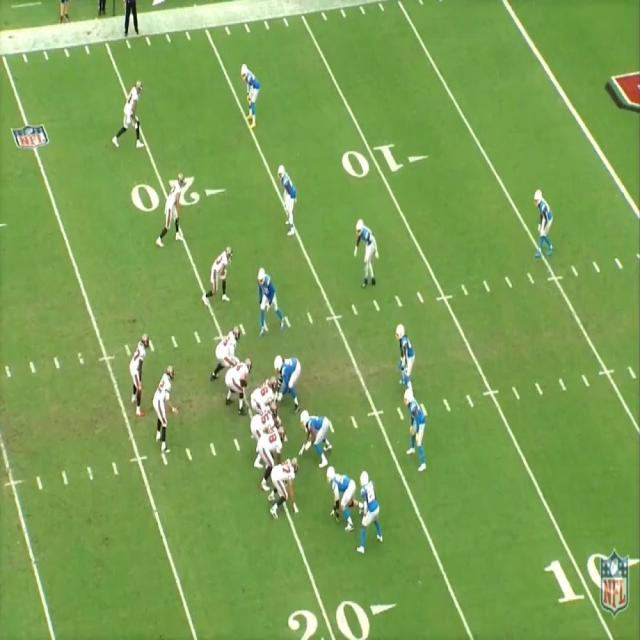center: (250, 372, 281, 406)
db: (238, 60, 264, 129), (532, 190, 552, 260), (279, 164, 297, 240)
lb: (398, 388, 434, 472), (354, 216, 381, 290), (394, 319, 416, 377)
qb: (152, 366, 182, 462)
